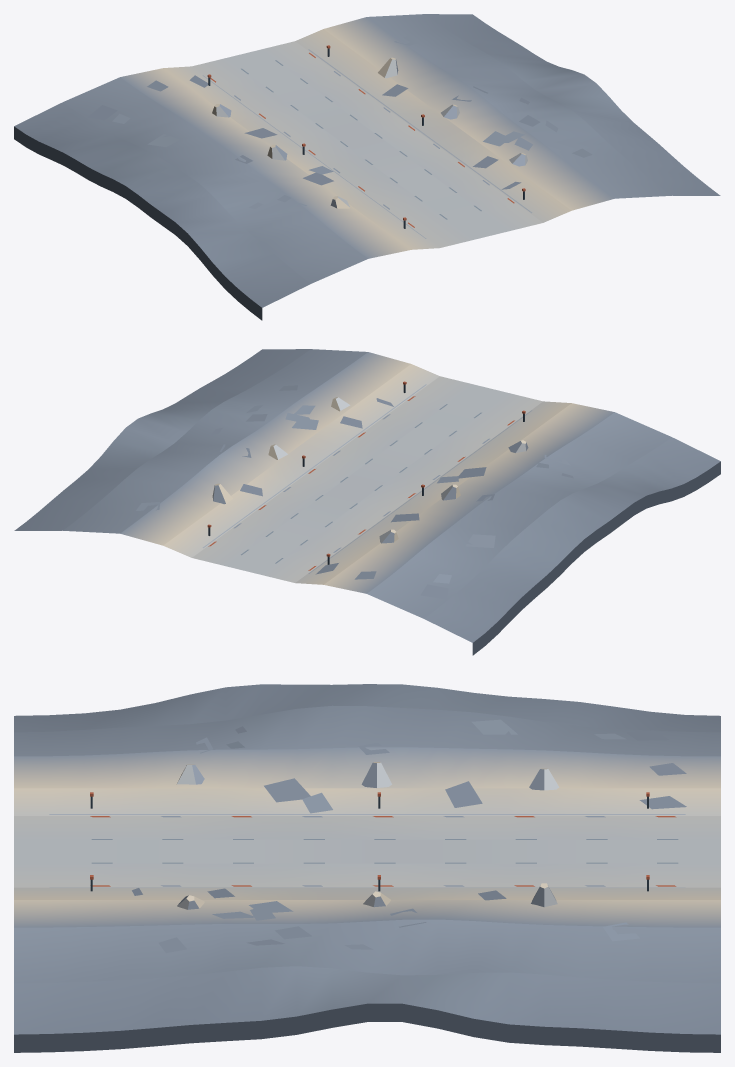
Rendered from 07-forest.glb.
The picture shows the model from 3 angles, top to bottom: view 1: azimuth 30°, elevation 25°; view 2: azimuth 150°, elevation 25°; view 3: azimuth 270°, elevation 25°; orthographic projection. The views are drawn at different scales.
Parts seen in each view (by area): view 1: forest; view 2: forest; view 3: forest.
Part boxes in pixels (x1,y1,x2,y2): forest: (14, 14, 720, 320); forest: (14, 349, 720, 655); forest: (14, 684, 720, 1052).
Size of the model in its own units: 32 by 3.27 by 30.
